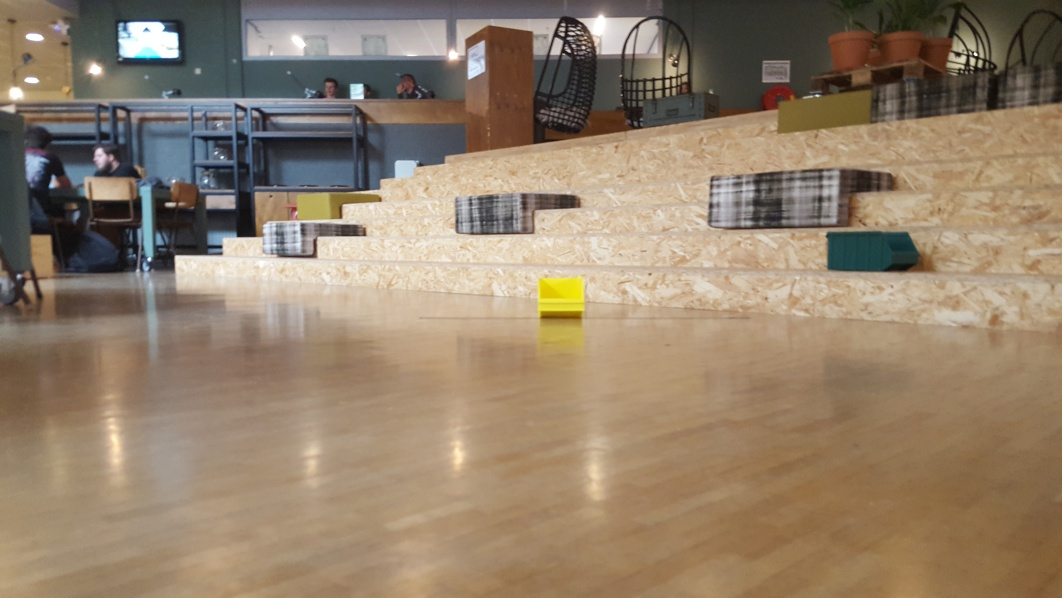tray: (810, 229, 922, 271), (536, 275, 588, 321)
